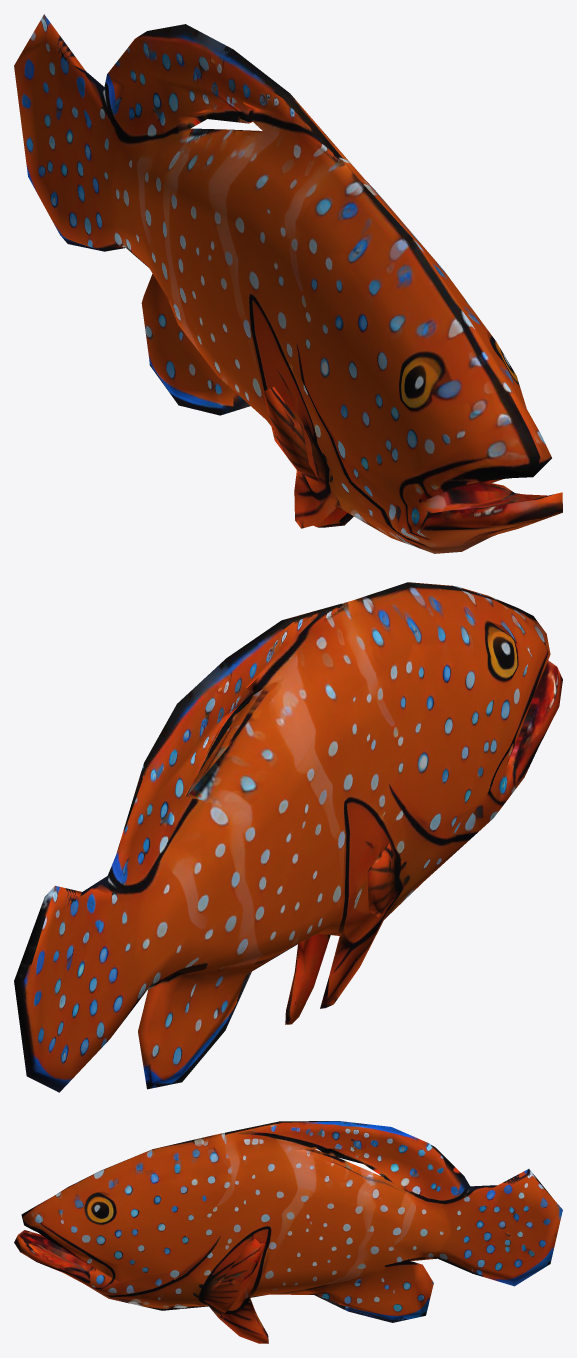
Rendered from Grouper.fbx.
3 renders of one model, top to bottom at view 1: azimuth 30°, elevation 25°; view 2: azimuth 150°, elevation 25°; view 3: azimuth 270°, elevation 25°, orthographic. The views are drawn at different scales.
Parts seen in each view (by area): view 1: tripo_node_09a20e9a; view 2: tripo_node_09a20e9a; view 3: tripo_node_09a20e9a.
Boxes of the visible parts, left/top/right/bottom form: tripo_node_09a20e9a: left=14, top=14, right=562, bottom=553; tripo_node_09a20e9a: left=14, top=582, right=562, bottom=1092; tripo_node_09a20e9a: left=14, top=1121, right=562, bottom=1343.
Size of the model in its own units: 13.21 by 44.35 by 100.
1 material, 1 textured.
